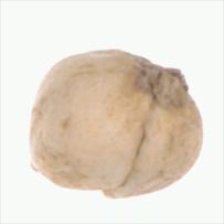L3: (32, 163, 121, 199)
L4: (28, 50, 204, 199)
